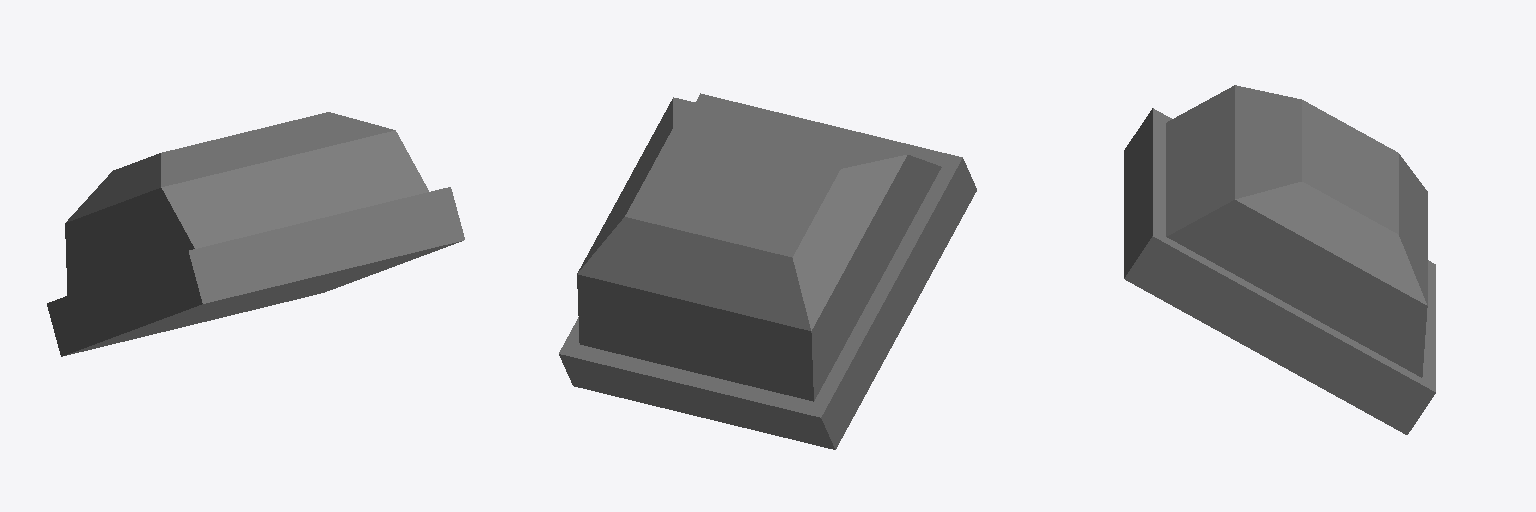
File: Beanie.obj
3 views of the same model, side by side, from view 1: azimuth 30°, elevation 25°; view 2: azimuth 150°, elevation 25°; view 3: azimuth 270°, elevation 25° (orthographic).
Parts seen in each view (by area): view 1: Beanie; view 2: Beanie; view 3: Beanie.
Part boxes in pixels (x1,y1,x2,y2): Beanie: (47, 112, 464, 356); Beanie: (559, 93, 976, 449); Beanie: (1124, 85, 1435, 434).
Size of the model in its own units: 9.34 by 7.86 by 9.63.